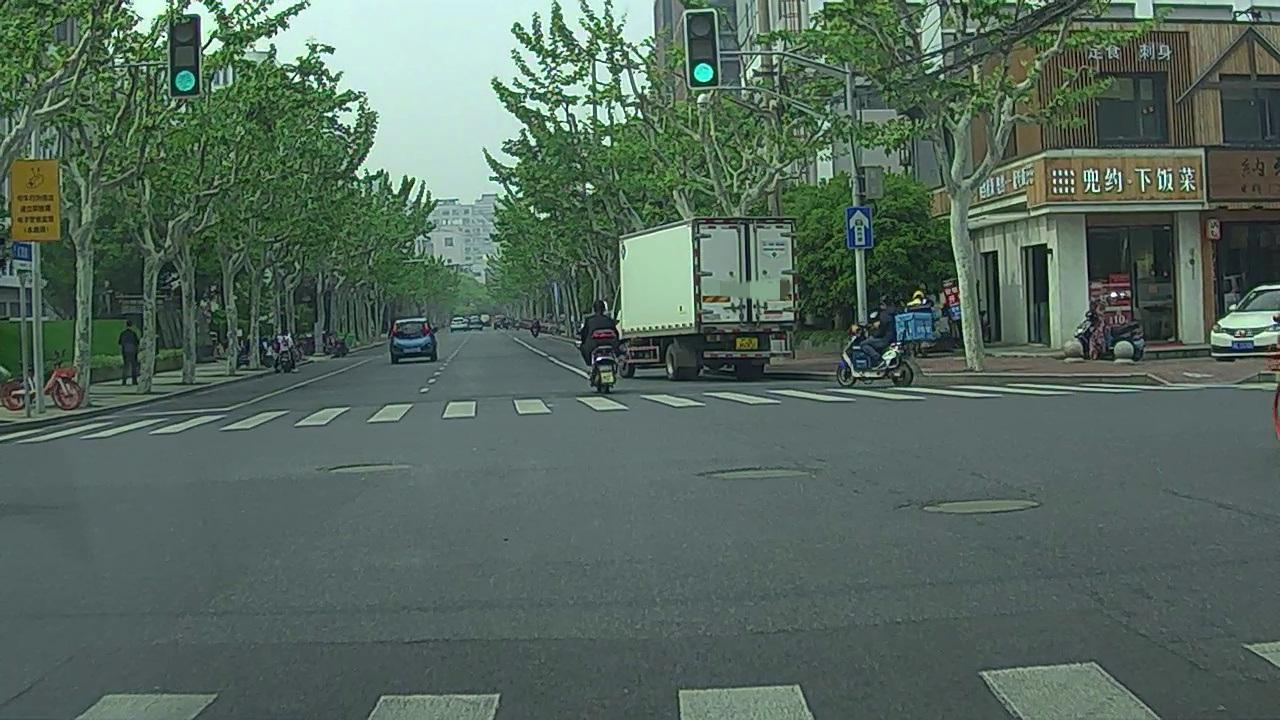traffic_light: (170, 17, 201, 95), (688, 13, 719, 88)
